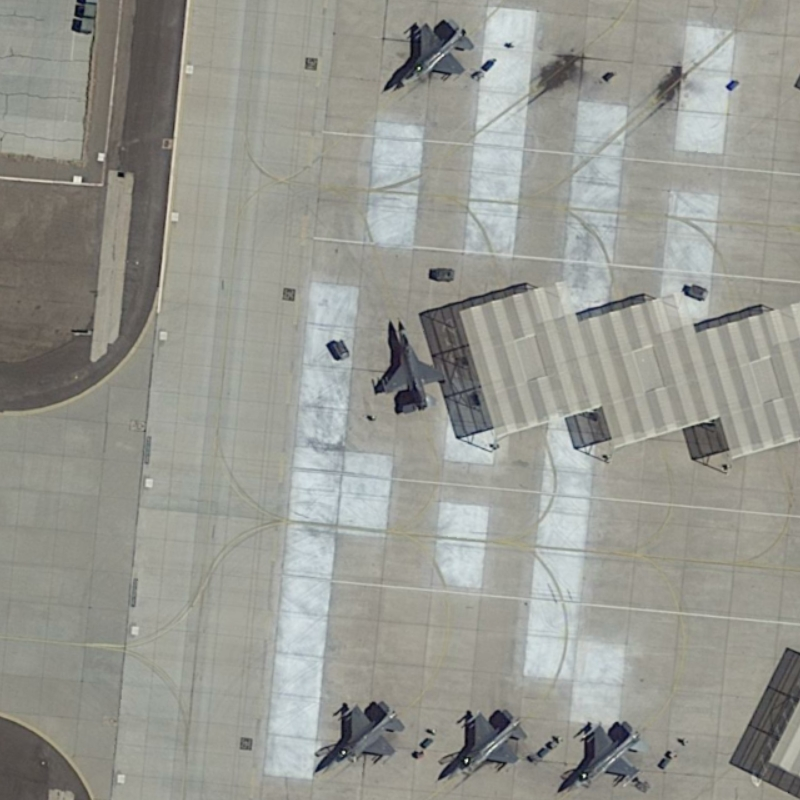A5: (306, 698, 409, 777), (551, 718, 649, 796), (375, 315, 448, 417), (435, 706, 531, 782), (388, 16, 477, 95)
